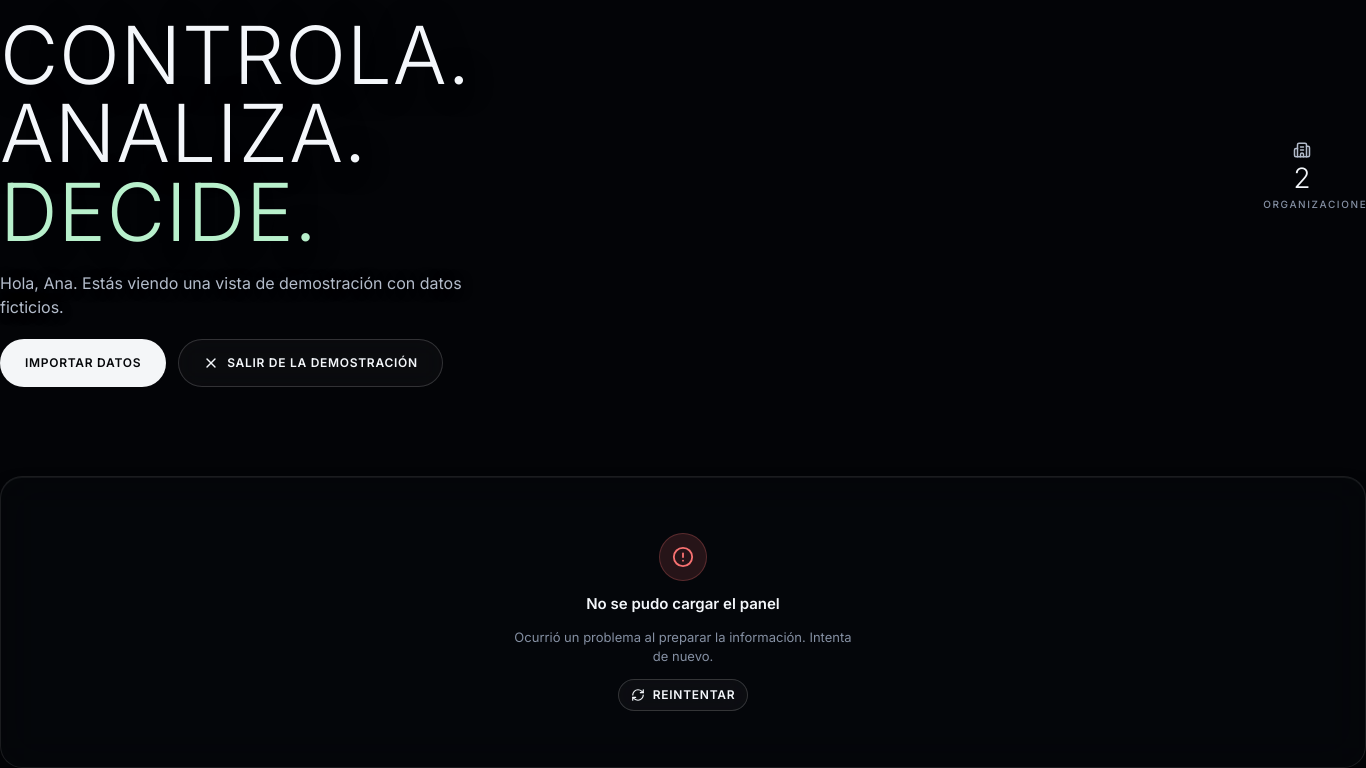
Test: dashboard › shows an error state with a working retry
(page scrolled)
Expected: the message shows "No se pudo cargar el panel", [586,594,780,613]
Click the button "Reintentar" at [683, 694], box [618,678,748,710]
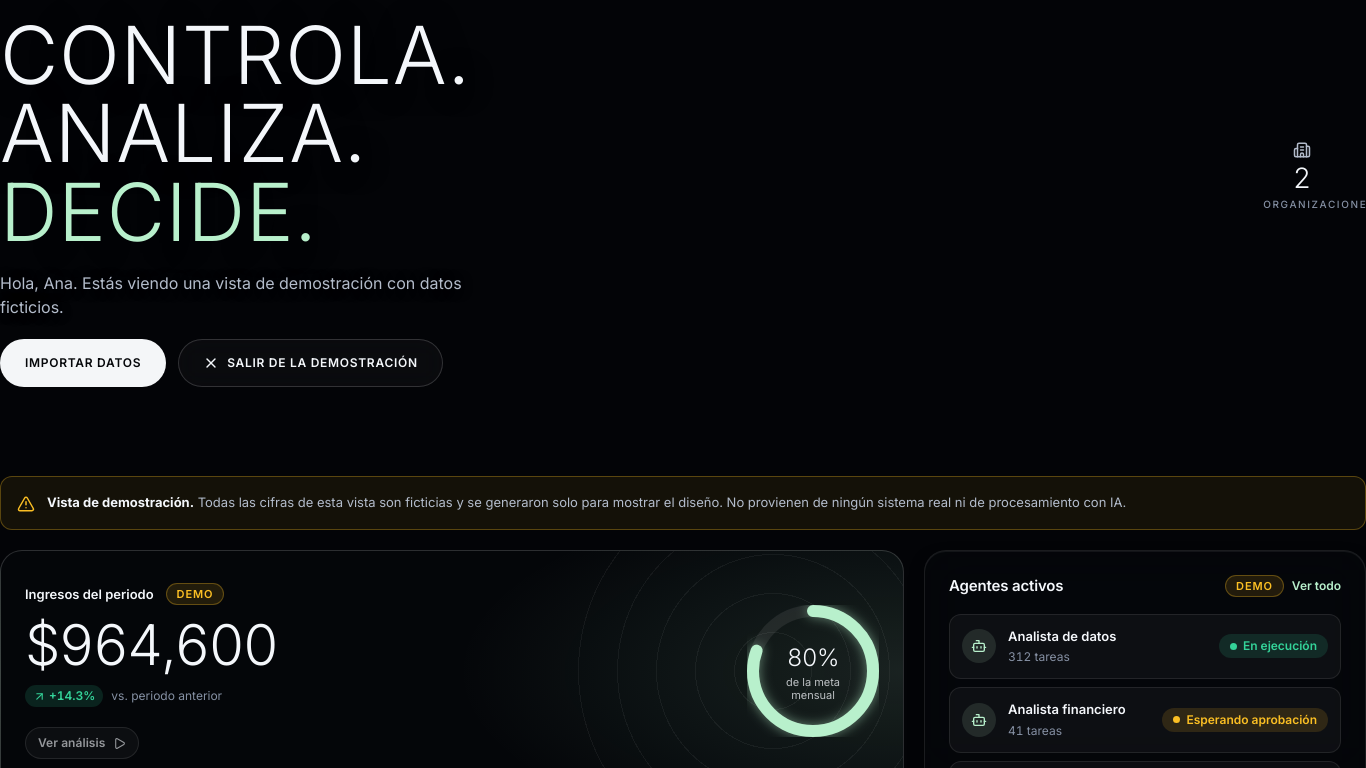
Expected: the element with test id "demo-banner" is shown, [0,476,1365,530]
